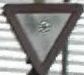Give way: (2, 3, 76, 70)
